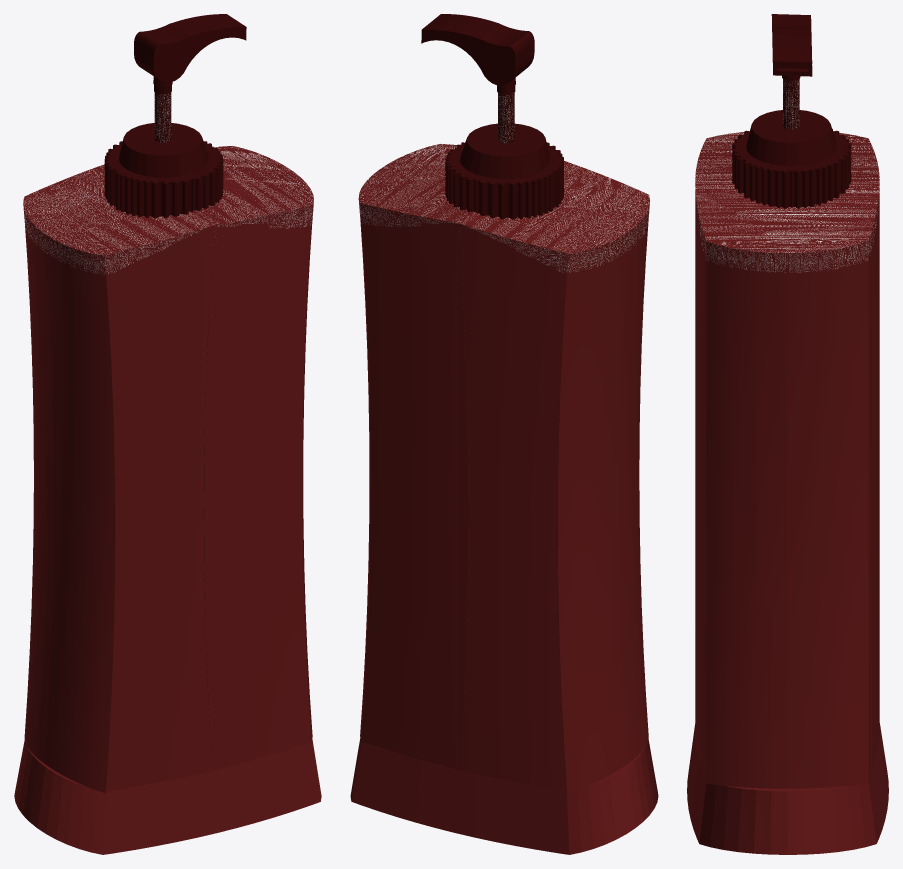
3 views of the same model, side by side, from view 1: azimuth 30°, elevation 25°; view 2: azimuth 150°, elevation 25°; view 3: azimuth 270°, elevation 25° (orthographic).
Parts seen in each view (by area): view 1: mesh5_mesh5-geometry, mesh1_mesh1-geometry, mesh2_mesh2-geometry, mesh3_mesh3-geometry; view 2: mesh5_mesh5-geometry, mesh1_mesh1-geometry, mesh2_mesh2-geometry, mesh3_mesh3-geometry; view 3: mesh5_mesh5-geometry, mesh1_mesh1-geometry, mesh2_mesh2-geometry, mesh3_mesh3-geometry.
Part boxes in pixels (x1,y1,x2,y2): mesh5_mesh5-geometry: (23,145,313,793); mesh1_mesh1-geometry: (14,739,321,854); mesh2_mesh2-geometry: (104,76,223,218); mesh3_mesh3-geometry: (134,14,246,82); mesh5_mesh5-geometry: (358,143,649,792); mesh1_mesh1-geometry: (350,739,658,854); mesh2_mesh2-geometry: (445,78,563,219); mesh3_mesh3-geometry: (421,14,534,85); mesh5_mesh5-geometry: (695,132,879,788); mesh1_mesh1-geometry: (687,723,888,854); mesh2_mesh2-geometry: (732,75,851,208); mesh3_mesh3-geometry: (771,14,812,76).
Size of the model in its own units: 0.3135 by 0.8732 by 0.2076.
